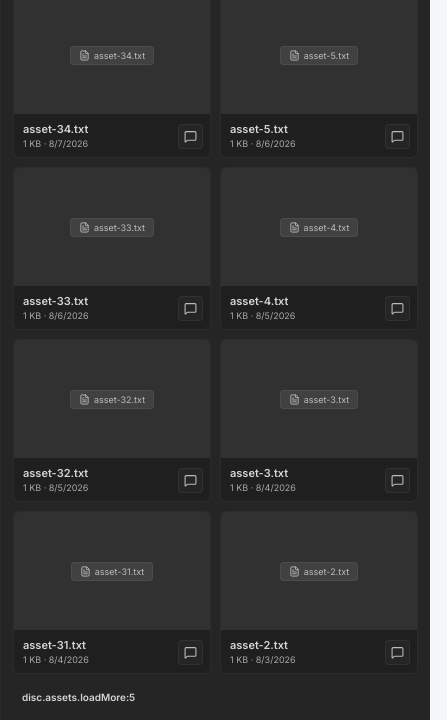
Test: DiscussionAssetsPanel › loads large histories in bounded pages of forty assets
(page scrolled)
Click the button "disc.assets.loadMore:5". click: x=79, y=697
box: top-left (13, 686), bottom-right (418, 708)
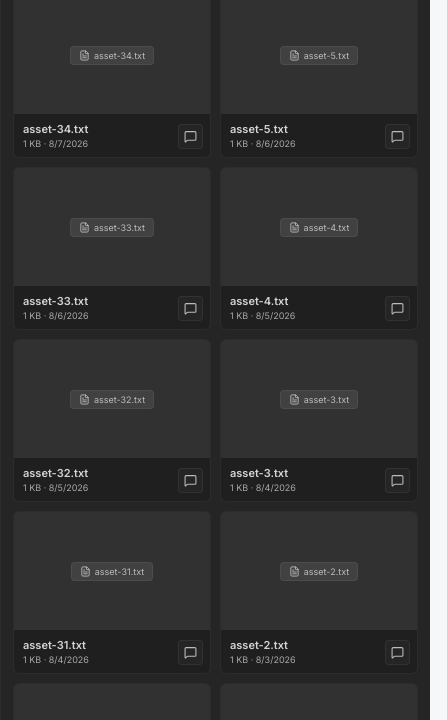
Check: the button "disc.assets.loadMore" is gone
